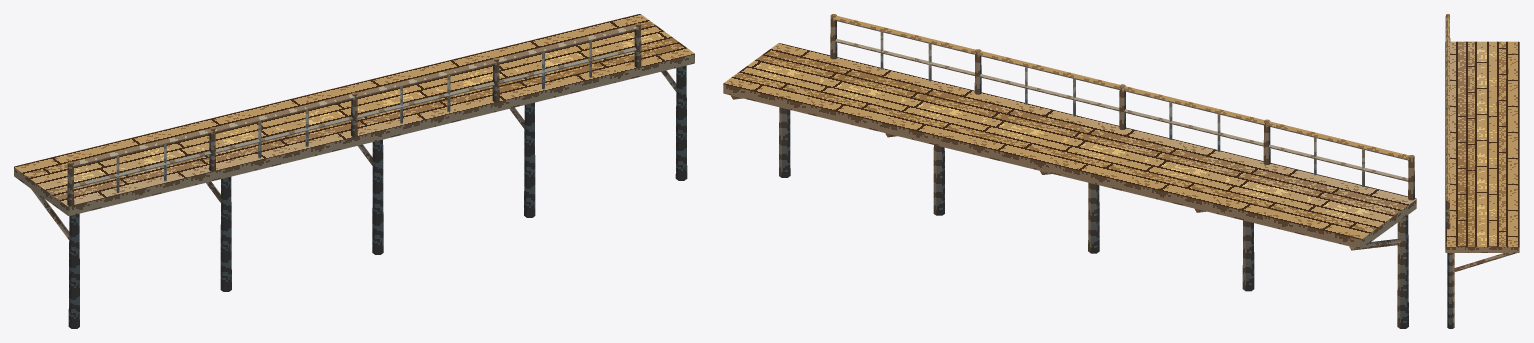
File: wtown.gallery__long.glb
3 renders of one model, left to right at view 1: azimuth 30°, elevation 25°; view 2: azimuth 150°, elevation 25°; view 3: azimuth 270°, elevation 25°, orthographic. The views are drawn at different scales.
Visible parts, largest first — view 1: kit_deck, kit_railing, kit_posts, kit_braces; view 2: kit_deck, kit_railing, kit_posts; view 3: kit_deck, kit_railing, kit_posts, kit_braces.
Part boxes in pixels (x1,y1,x2,y2): kit_deck: [14, 14, 694, 215]; kit_railing: [67, 23, 641, 205]; kit_posts: [68, 65, 687, 328]; kit_braces: [31, 70, 676, 239]; kit_deck: [723, 43, 1416, 248]; kit_railing: [830, 14, 1414, 200]; kit_posts: [779, 107, 1408, 328]; kit_deck: [1445, 41, 1519, 252]; kit_railing: [1445, 14, 1450, 229]; kit_posts: [1447, 253, 1454, 328]; kit_braces: [1454, 253, 1516, 271].
Bounding box in the file's own units: 15.72 × 4.01 × 2.4.
Materials: 4 (4 with a texture image).
